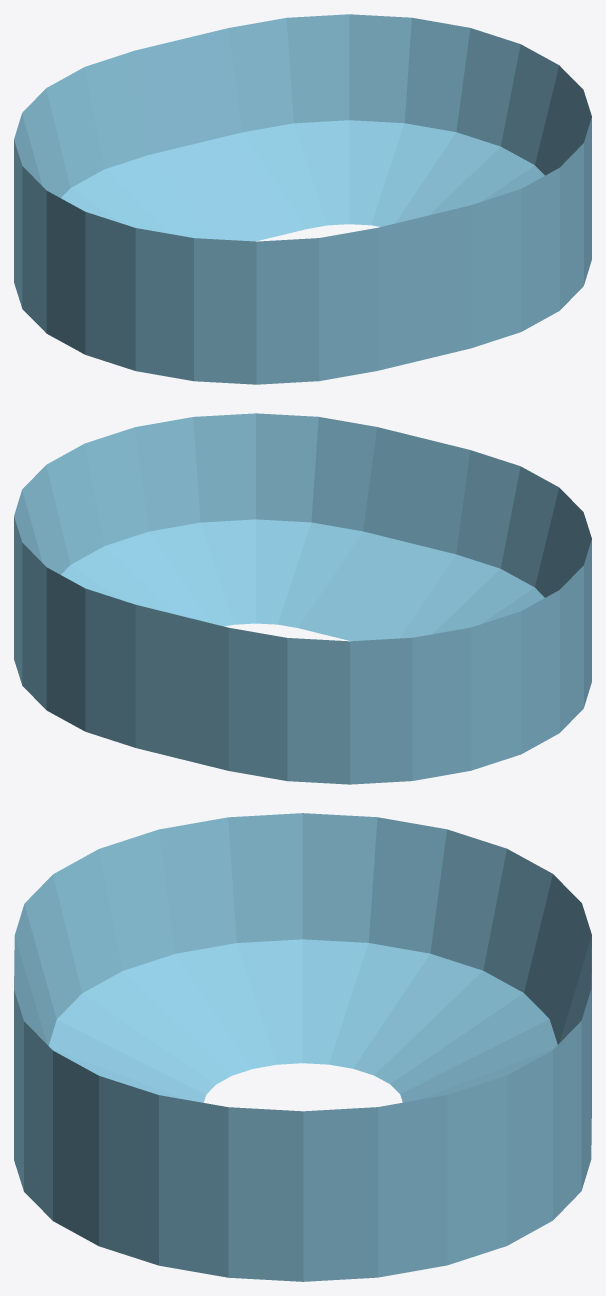
The model's file is stadium.fbx.
The picture shows the model from 3 angles, top to bottom: view 1: azimuth 30°, elevation 25°; view 2: azimuth 150°, elevation 25°; view 3: azimuth 270°, elevation 25°; orthographic projection. The views are drawn at different scales.
Visible parts, largest first — view 1: Cube; view 2: Cube; view 3: Cube.
Boxes of the visible parts, box(x1,y1,x2,y2) form: Cube: box(14, 14, 591, 384); Cube: box(14, 413, 591, 784); Cube: box(14, 813, 591, 1281).
Size of the model in its own units: 34737 by 9267 by 28456.
